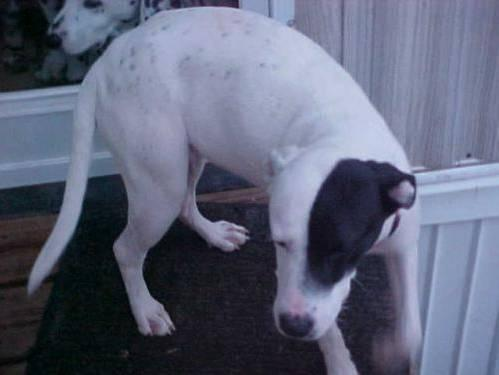dog: (29, 7, 419, 374)
